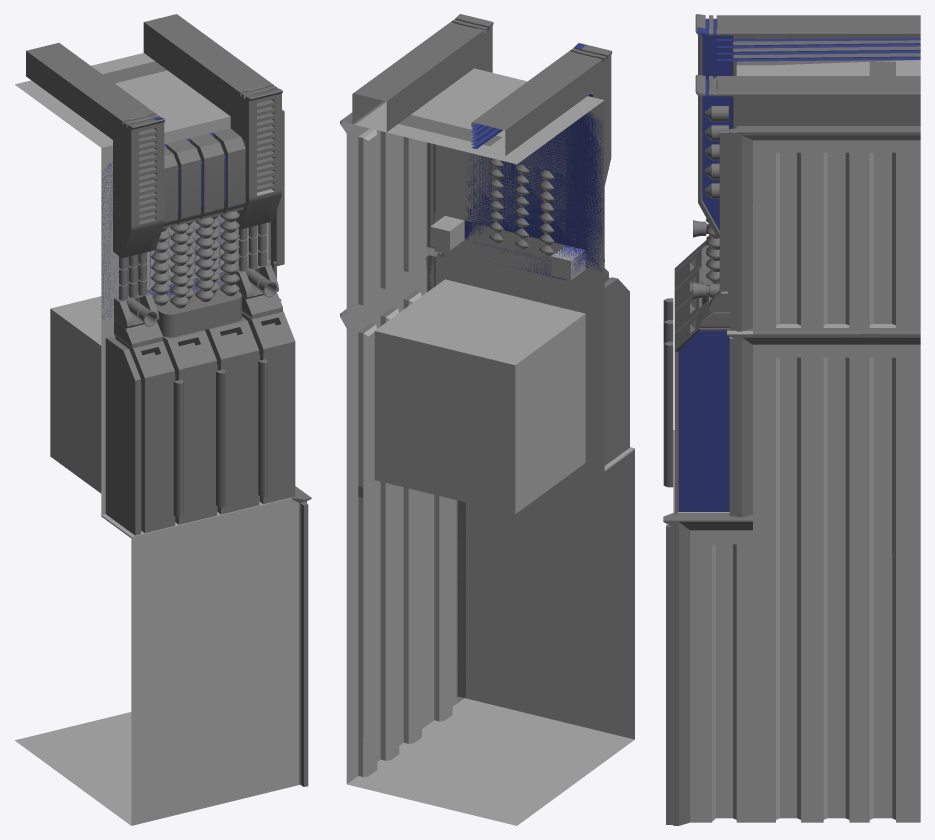
Rendered from Level 2 entrance.fbx.
3 views of the same model, side by side, from view 1: azimuth 30°, elevation 25°; view 2: azimuth 150°, elevation 25°; view 3: azimuth 270°, elevation 25° (orthographic). The views are drawn at different scales.
Visible parts, largest first — view 1: pCylinder25, polySurface520, polySurface502, polySurface518, polySurface499, polySurface524; view 2: pCylinder25, polySurface520, polySurface502; view 3: pCylinder25, polySurface518, polySurface499, polySurface520, polySurface524.
Part boxes in pixels (x1,y1,x2,y2): pCylinder25: [15, 14, 311, 825]; polySurface520: [105, 330, 224, 457]; polySurface502: [105, 426, 224, 535]; polySurface518: [205, 311, 295, 439]; polySurface499: [217, 419, 295, 514]; polySurface524: [114, 262, 282, 348]; pCylinder25: [340, 14, 634, 825]; polySurface520: [604, 276, 629, 376]; polySurface502: [604, 367, 629, 465]; pCylinder25: [663, 14, 920, 825]; polySurface518: [663, 296, 729, 432]; polySurface499: [663, 415, 729, 514]; polySurface520: [663, 246, 701, 321]; polySurface524: [699, 240, 729, 327].
Bounding box in the file's own units: 510 × 1911 × 612.
